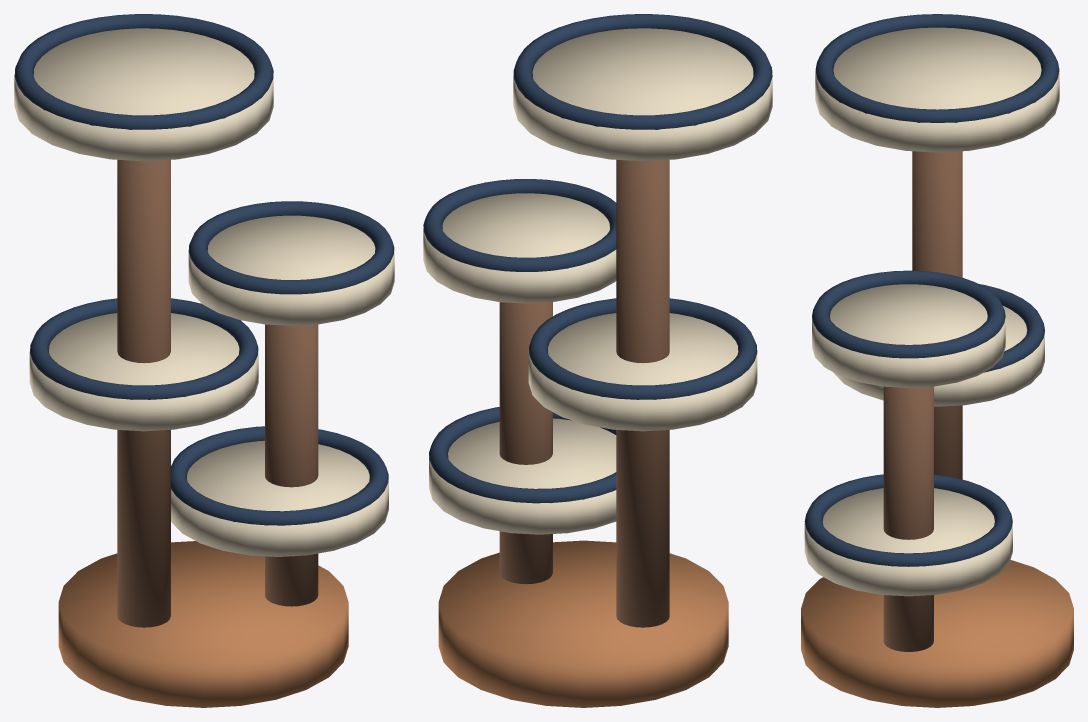
File: cat_tree.glb
The picture shows the model from 3 angles, left to right: view 1: azimuth 30°, elevation 25°; view 2: azimuth 150°, elevation 25°; view 3: azimuth 270°, elevation 25°; orthographic projection. The views are drawn at different scales.
Parts seen in each view (by area): view 1: root_cream, root_copper, root_wood, root_navy; view 2: root_cream, root_copper, root_wood, root_navy; view 3: root_cream, root_copper, root_navy, root_wood.
Boxes of the visible parts, left/top/right/bottom form: root_cream: left=14, top=28, right=394, bottom=556; root_copper: left=58, top=541, right=348, bottom=707; root_wood: left=117, top=159, right=318, bottom=627; root_navy: left=14, top=14, right=394, bottom=525; root_cream: left=423, top=28, right=772, bottom=534; root_copper: left=438, top=540, right=728, bottom=707; root_wood: left=499, top=160, right=669, bottom=627; root_navy: left=423, top=14, right=772, bottom=503; root_cream: left=804, top=27, right=1059, bottom=596; root_copper: left=801, top=560, right=1073, bottom=707; root_navy: left=804, top=14, right=1059, bottom=566; root_wood: left=883, top=151, right=962, bottom=651.
Size of the model in its own units: 1.01 by 1.73 by 0.76.
